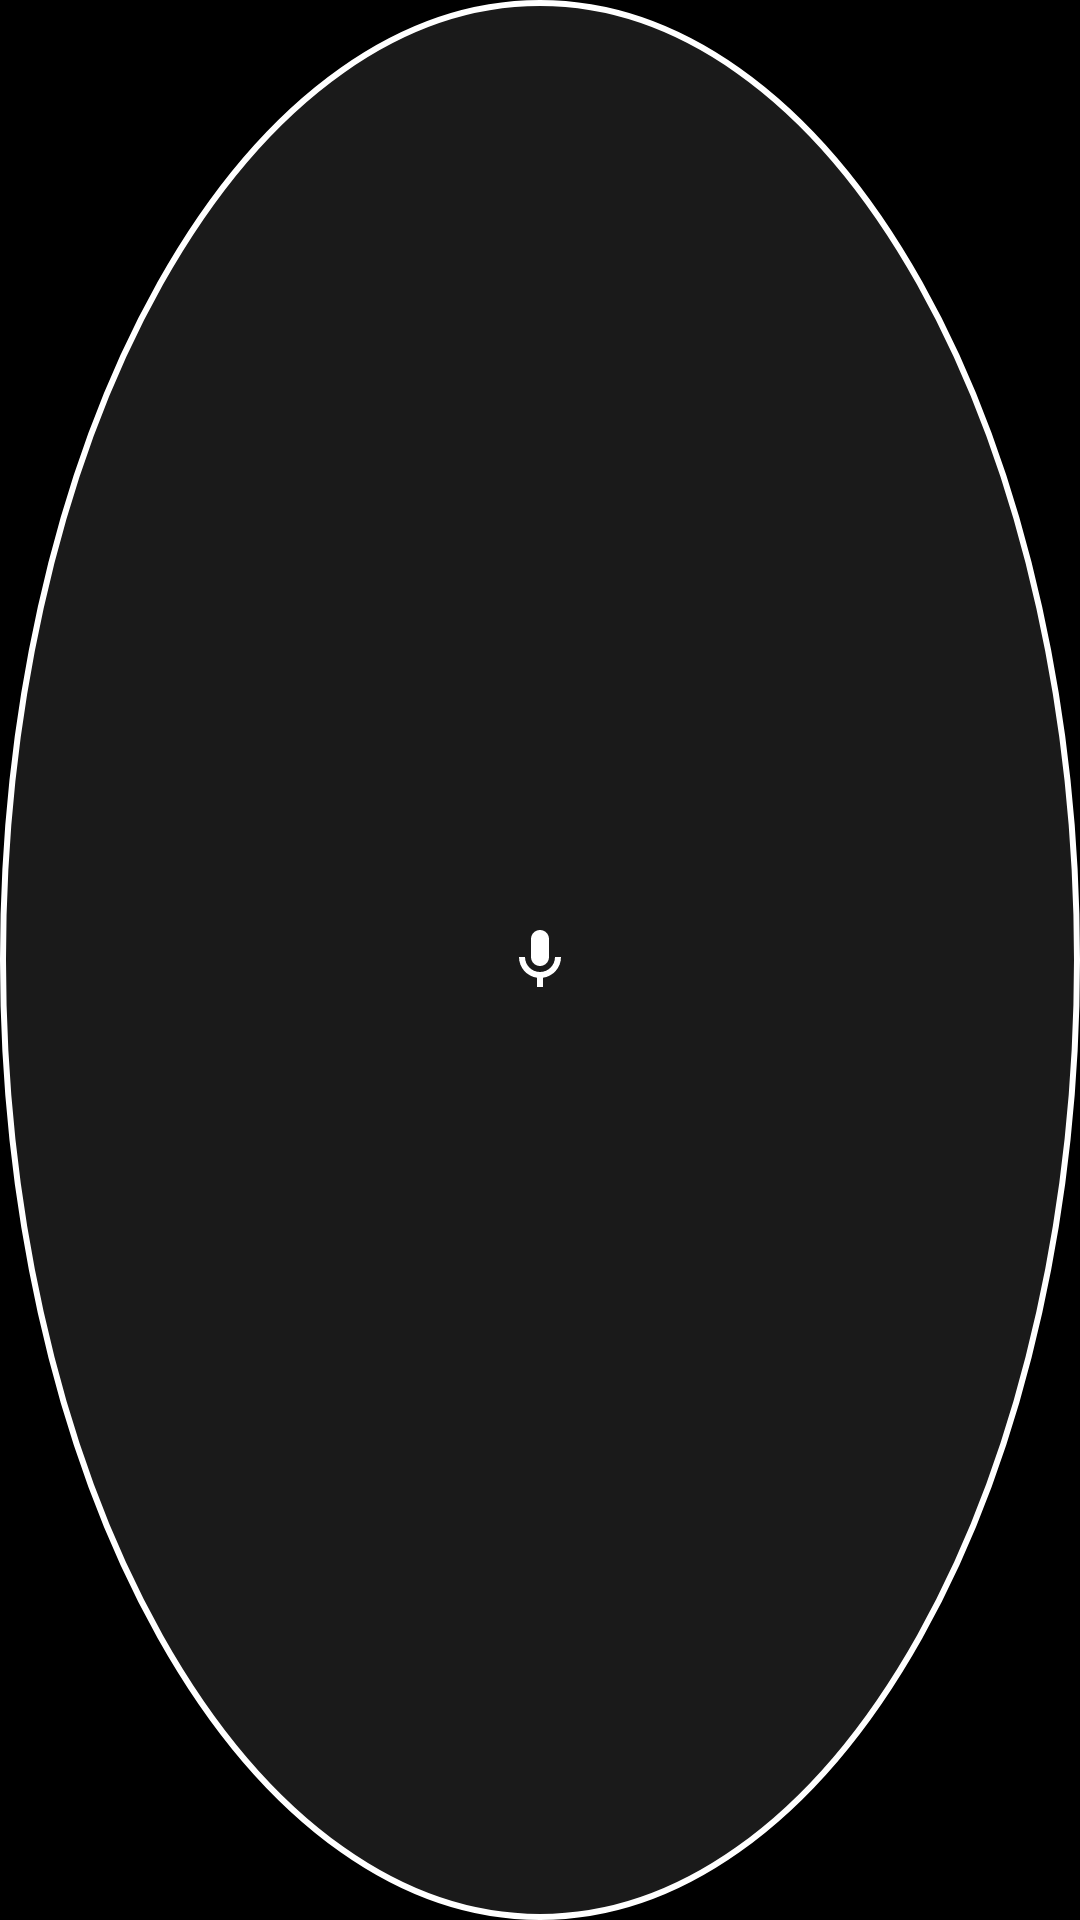

Screen size 1080×1920. Icon name, then its center in pixels as (x,y):
Voice assistant floating icon: (540,958)
